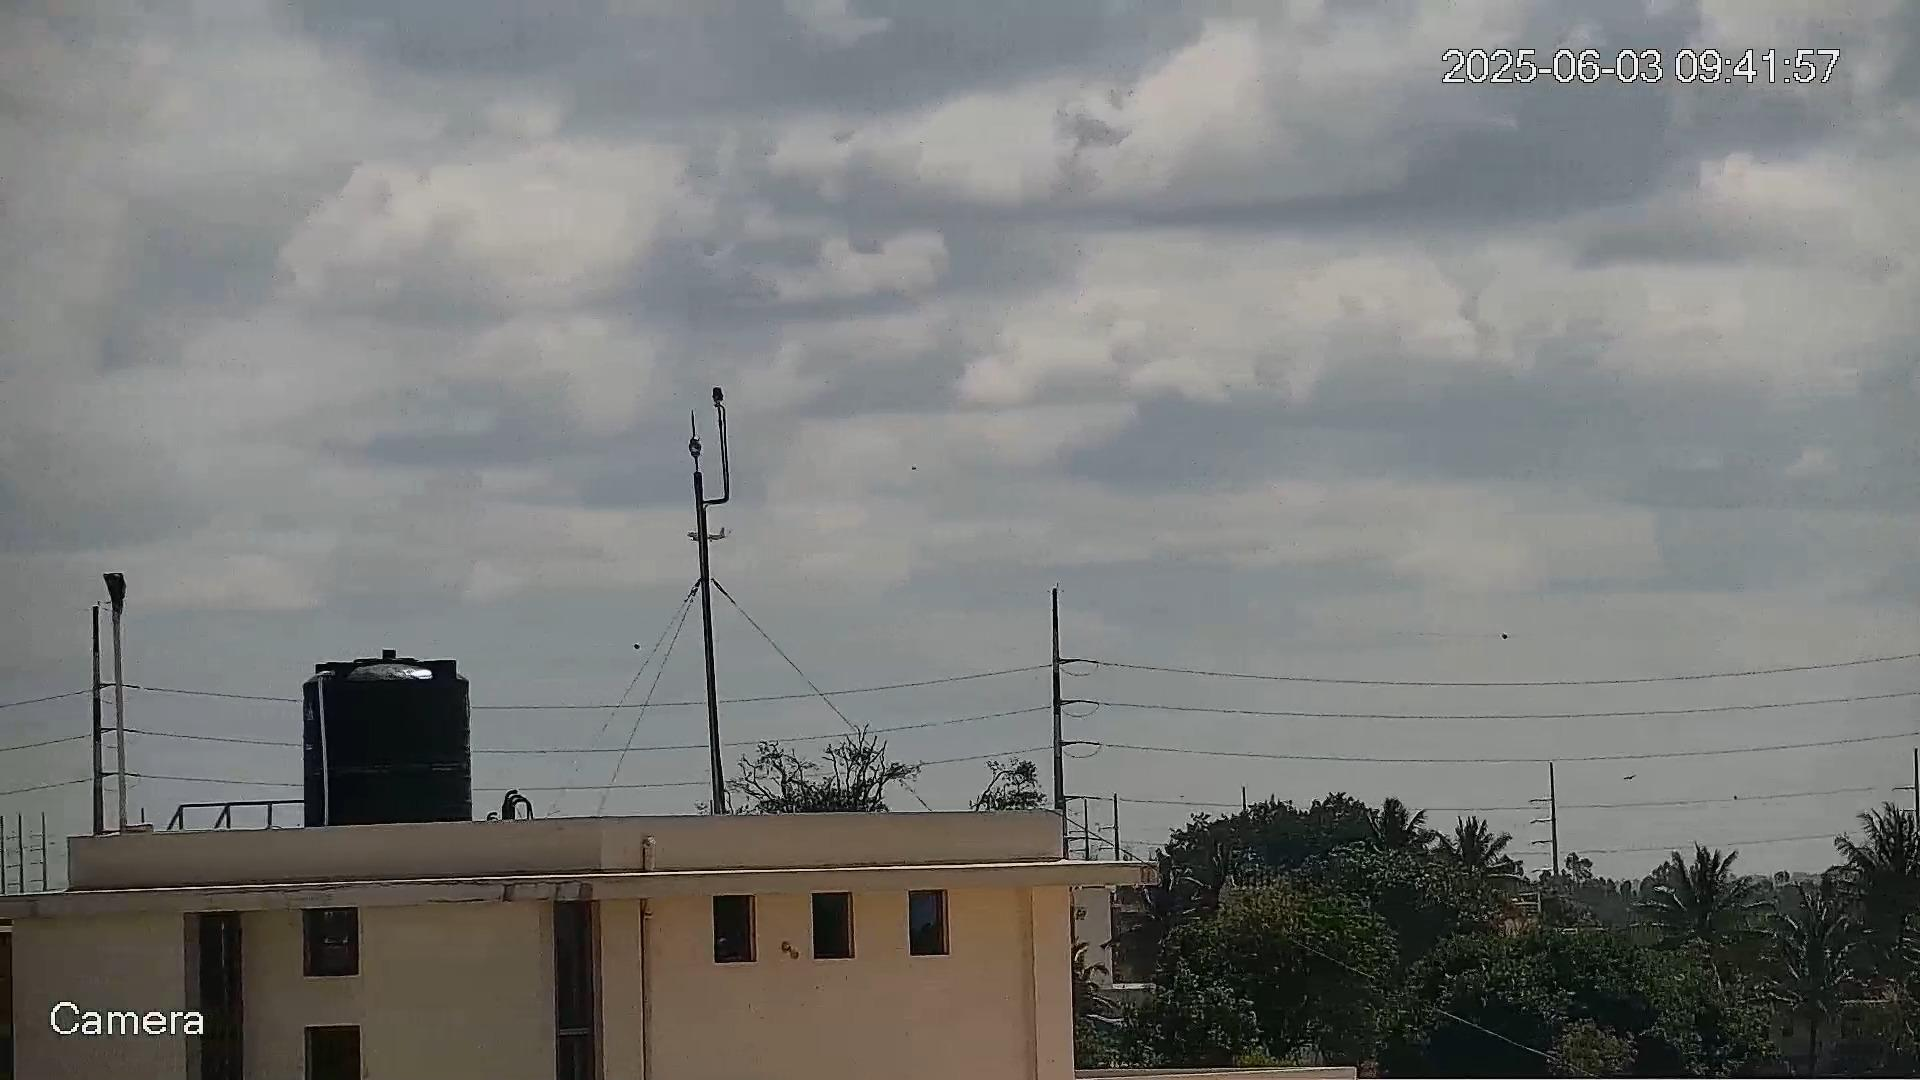Aircraft: (684, 526, 731, 545)
